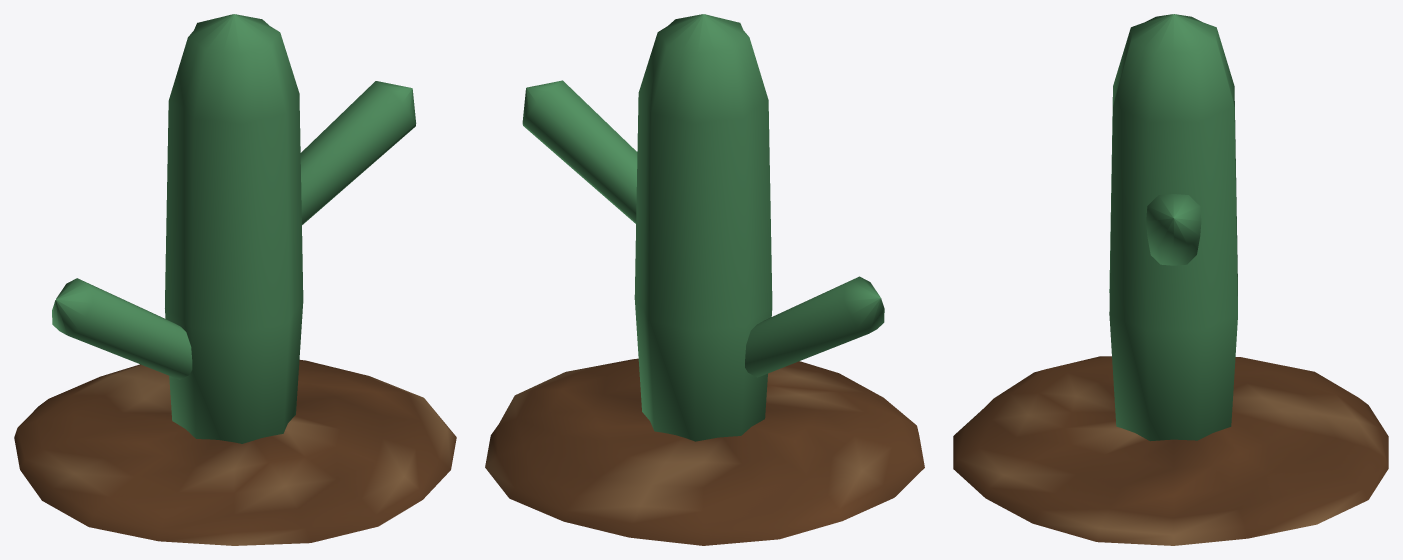
Rendered from plant-dragon-3.gltf.
The picture shows the model from 3 angles, left to right: view 1: azimuth 30°, elevation 25°; view 2: azimuth 150°, elevation 25°; view 3: azimuth 270°, elevation 25°; orthographic projection.
Size of the model in its own units: 1.28 by 1.4 by 1.26.
